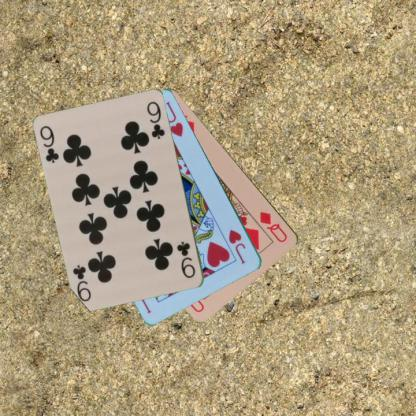9c: (175, 238, 197, 280), (38, 123, 60, 165)
Jh: (226, 226, 247, 266)
Qd: (248, 208, 289, 244)
